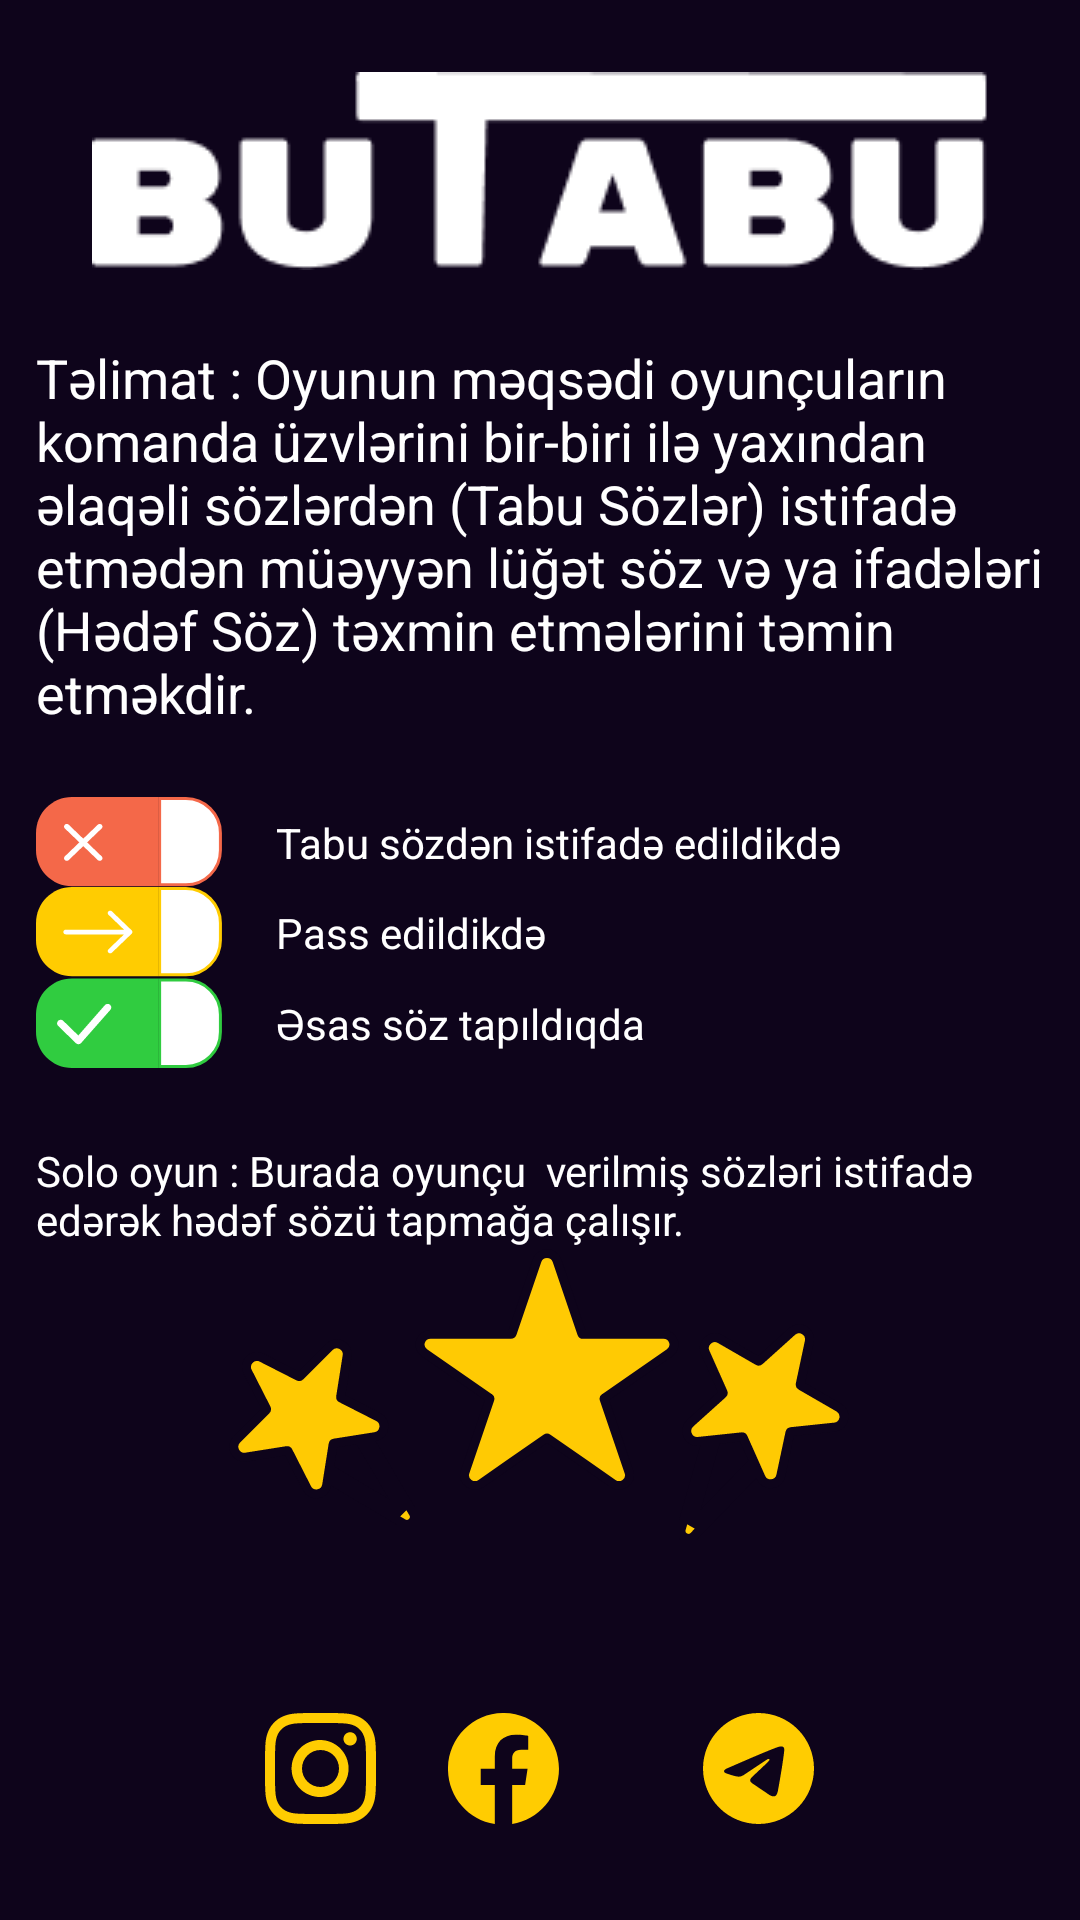

Point at icon controls on the screen. Image size 1080 x 1920, points as point (x, y).
next: point (129, 932)
okey: point (129, 1023)
star: point (547, 1369), point (762, 1433), point (324, 1434)
